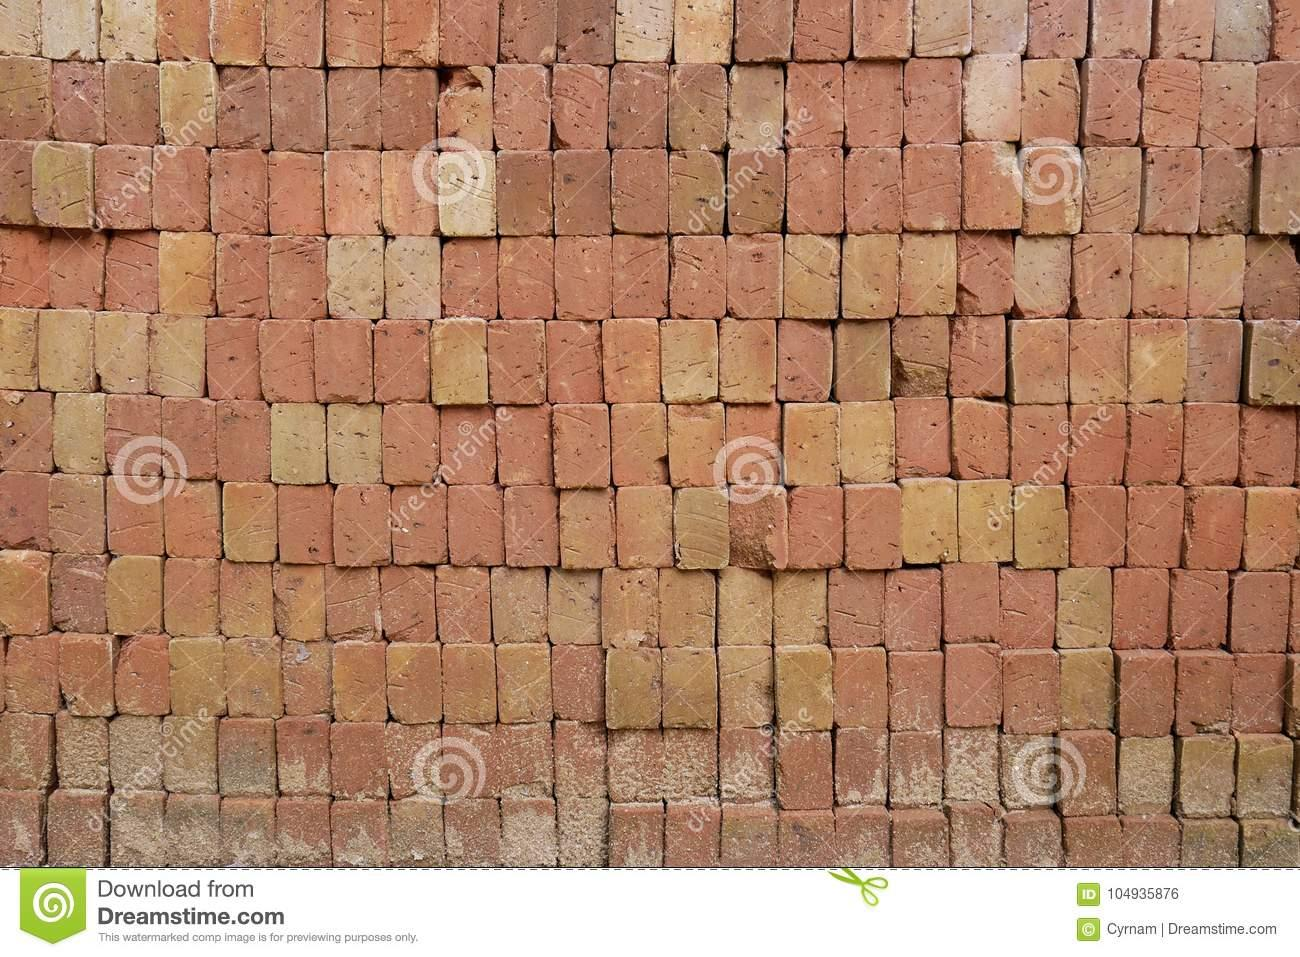brick: (1083, 58, 1144, 146), (1020, 147, 1082, 233), (1021, 58, 1080, 146), (31, 141, 91, 228), (962, 54, 1021, 140), (963, 141, 1022, 227), (1081, 146, 1141, 232), (1184, 487, 1244, 570), (1144, 147, 1202, 233), (730, 485, 788, 569), (1143, 60, 1200, 145), (105, 60, 162, 145), (610, 63, 667, 148), (669, 64, 727, 149), (903, 144, 961, 230), (1199, 62, 1257, 146), (785, 62, 843, 146), (553, 149, 611, 234), (325, 150, 383, 235), (842, 233, 899, 318), (1071, 318, 1128, 403), (1067, 404, 1126, 486), (152, 145, 209, 231), (431, 318, 488, 404), (1073, 234, 1131, 317), (1013, 235, 1072, 318), (268, 236, 327, 319), (1009, 320, 1068, 403), (1131, 234, 1189, 318), (1188, 234, 1245, 318), (1242, 488, 1300, 571), (846, 62, 902, 146), (159, 62, 216, 146), (315, 319, 373, 401), (1124, 404, 1183, 486), (1126, 486, 1185, 567), (904, 58, 960, 143), (495, 64, 550, 149), (668, 404, 726, 487), (729, 147, 785, 231), (210, 149, 266, 233), (158, 232, 215, 316), (327, 235, 384, 319), (1186, 317, 1242, 401), (604, 318, 660, 402), (1128, 318, 1185, 402), (490, 319, 546, 403), (661, 320, 718, 404), (846, 486, 902, 569), (775, 649, 834, 730), (438, 67, 494, 151), (270, 67, 326, 151), (846, 147, 901, 232), (728, 233, 783, 318), (720, 317, 775, 402), (439, 153, 497, 235), (1171, 568, 1228, 650), (334, 483, 391, 565), (1238, 406, 1297, 486), (1231, 571, 1290, 651), (958, 231, 1013, 315), (553, 64, 608, 148), (788, 148, 843, 233), (498, 150, 552, 235), (382, 150, 436, 235), (899, 232, 956, 314), (149, 314, 206, 396), (777, 320, 834, 402), (785, 402, 840, 487), (497, 404, 553, 486), (96, 145, 151, 228), (612, 149, 667, 232), (268, 151, 324, 234), (784, 235, 840, 318), (556, 236, 612, 319), (553, 404, 609, 487), (383, 404, 439, 485), (1010, 405, 1067, 486), (107, 475, 164, 556), (946, 646, 1002, 727), (1003, 652, 1060, 733), (547, 321, 603, 403), (673, 488, 729, 569), (603, 567, 658, 649), (1069, 488, 1126, 566), (226, 638, 284, 717), (218, 718, 276, 796), (669, 150, 724, 233), (614, 235, 668, 318), (671, 236, 726, 319), (1245, 236, 1300, 319), (375, 319, 430, 402), (260, 319, 315, 402), (1113, 568, 1170, 648), (659, 568, 716, 648), (718, 646, 774, 726), (1179, 738, 1235, 818), (727, 66, 782, 146), (950, 316, 1005, 397), (448, 486, 504, 566), (885, 569, 941, 650), (1015, 486, 1069, 569), (499, 236, 553, 318), (385, 236, 439, 318), (39, 310, 94, 392), (94, 311, 148, 393), (895, 397, 950, 478), (216, 400, 270, 482), (612, 403, 666, 485), (788, 486, 843, 567), (164, 478, 220, 557), (169, 637, 225, 716), (207, 317, 260, 400), (60, 633, 113, 716), (953, 399, 1008, 478), (1176, 655, 1231, 735), (943, 563, 1000, 640), (331, 722, 389, 799), (1236, 741, 1294, 818), (841, 402, 895, 483), (49, 473, 104, 554), (902, 482, 957, 562), (393, 485, 447, 565), (617, 487, 671, 567), (1061, 735, 1115, 816), (0, 550, 50, 637), (383, 69, 436, 150), (53, 392, 107, 473), (161, 397, 215, 478), (1185, 403, 1238, 485), (1058, 566, 1111, 648), (1000, 567, 1054, 649), (442, 238, 498, 317), (50, 554, 106, 633), (1118, 736, 1174, 815), (893, 315, 948, 395), (836, 321, 890, 401), (106, 395, 160, 474), (272, 404, 326, 484), (560, 488, 615, 567), (1120, 656, 1175, 736), (1201, 147, 1252, 233), (0, 56, 50, 141), (959, 481, 1012, 561), (504, 486, 557, 566), (115, 635, 169, 716), (829, 569, 884, 647), (387, 645, 442, 723), (276, 717, 331, 794), (1249, 320, 1300, 404), (47, 792, 105, 867), (218, 67, 270, 148), (328, 69, 381, 150), (327, 404, 382, 483), (726, 405, 780, 484), (223, 482, 278, 560), (333, 642, 388, 721), (49, 231, 106, 307), (662, 647, 716, 727), (1061, 650, 1114, 730), (216, 234, 267, 317), (164, 558, 219, 635), (325, 564, 381, 641), (493, 566, 548, 643), (442, 645, 498, 722), (777, 732, 833, 809), (442, 407, 497, 485), (888, 653, 943, 731), (162, 716, 217, 793), (107, 556, 160, 635), (498, 644, 551, 723), (1232, 654, 1286, 733), (56, 710, 109, 788), (387, 723, 442, 799), (274, 561, 326, 641), (834, 648, 886, 728), (606, 648, 658, 728), (219, 560, 274, 637), (279, 485, 332, 562), (5, 635, 59, 713), (554, 721, 608, 799), (52, 62, 104, 142), (381, 566, 435, 642), (719, 568, 772, 645), (165, 793, 220, 867), (889, 731, 942, 809), (1, 391, 51, 471), (498, 723, 552, 797), (436, 565, 489, 642), (836, 728, 888, 805), (720, 727, 774, 801), (945, 728, 999, 802), (609, 730, 664, 802), (548, 568, 601, 644), (109, 716, 162, 789), (773, 570, 826, 645), (551, 645, 604, 720), (0, 471, 49, 550), (442, 724, 496, 796), (664, 729, 718, 802), (110, 795, 165, 866), (282, 640, 333, 715), (1001, 734, 1053, 809), (439, 0, 499, 64), (0, 713, 50, 787), (1257, 61, 1300, 147), (332, 801, 388, 868), (221, 799, 276, 867), (105, 234, 155, 308), (266, 1, 323, 67), (1, 227, 47, 307), (327, 0, 383, 67), (445, 800, 501, 866), (502, 799, 556, 866), (390, 799, 444, 866), (277, 801, 331, 867), (1091, 0, 1153, 59), (1212, 0, 1271, 62), (723, 803, 778, 867), (665, 803, 721, 867), (555, 0, 614, 61), (615, 0, 673, 61), (674, 0, 732, 62), (384, 0, 438, 65), (210, 0, 263, 66), (1260, 147, 1300, 234), (1156, 0, 1214, 60), (736, 0, 793, 61), (557, 799, 609, 866), (610, 803, 663, 867), (40, 0, 98, 60), (794, 0, 851, 61), (1028, 0, 1087, 58), (853, 0, 912, 57), (101, 0, 156, 61), (502, 0, 556, 62), (914, 1, 971, 56), (155, 0, 207, 60), (0, 307, 36, 391), (1, 790, 40, 867), (950, 810, 1002, 867), (972, 0, 1027, 54), (0, 139, 34, 224), (778, 815, 834, 866), (837, 815, 890, 867), (893, 818, 950, 867), (1007, 818, 1062, 867), (1066, 820, 1122, 867), (1243, 821, 1300, 867), (1123, 821, 1179, 867), (1181, 824, 1238, 867), (0, 0, 43, 56), (1272, 0, 1300, 59)
